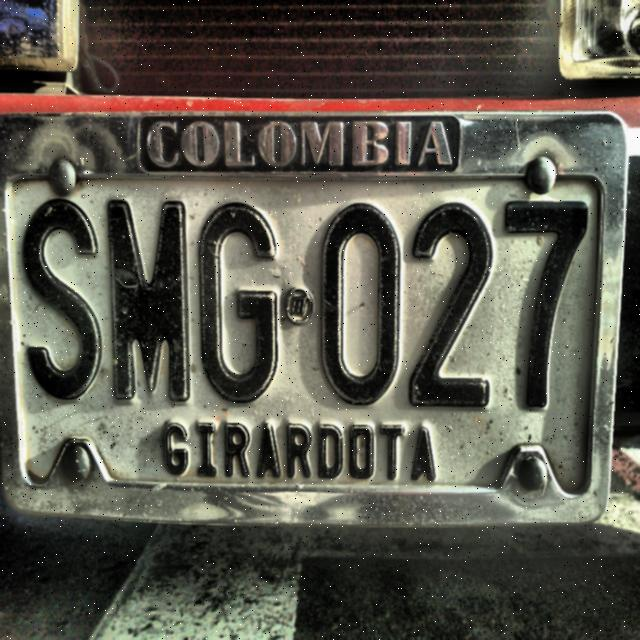0: (408, 198, 500, 416), (316, 196, 401, 406)
G: (198, 200, 284, 408)
M: (104, 200, 194, 404)
S: (11, 198, 103, 402)
